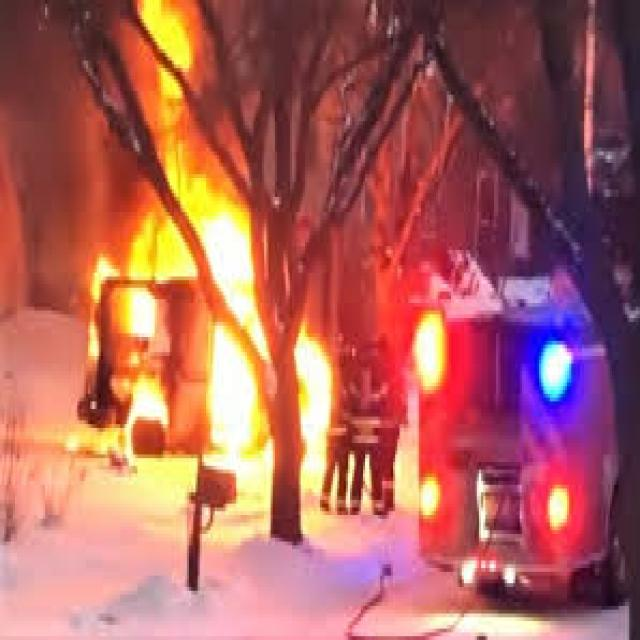Fire: (86, 0, 345, 513)
